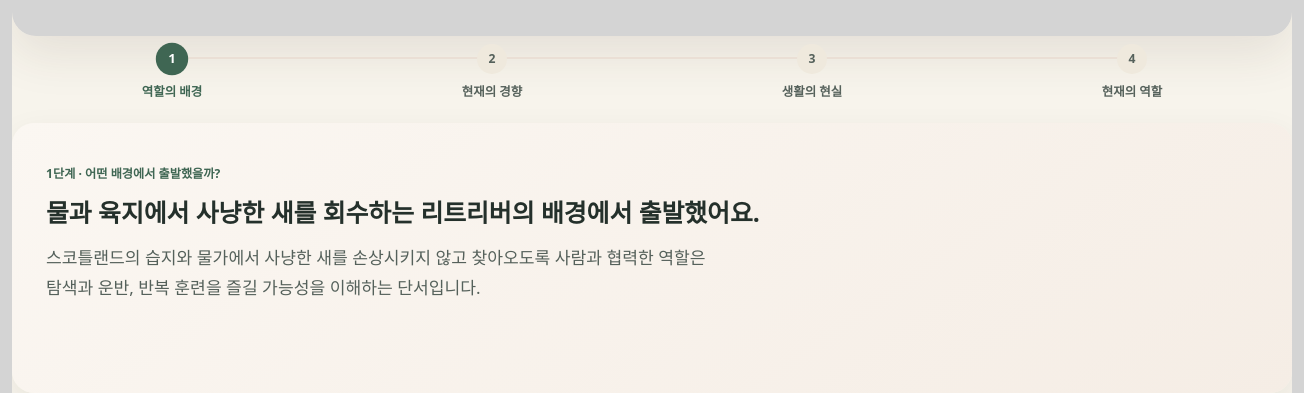
it: standard breed detail interactions › integrates an evidence-backed present-day job as Golden Retriever step four
This screenshot has width=1304, height=393.
(page scrolled)
Click the tab "4 현재의 역할" at (1132, 74), box [972,36,1292,111]
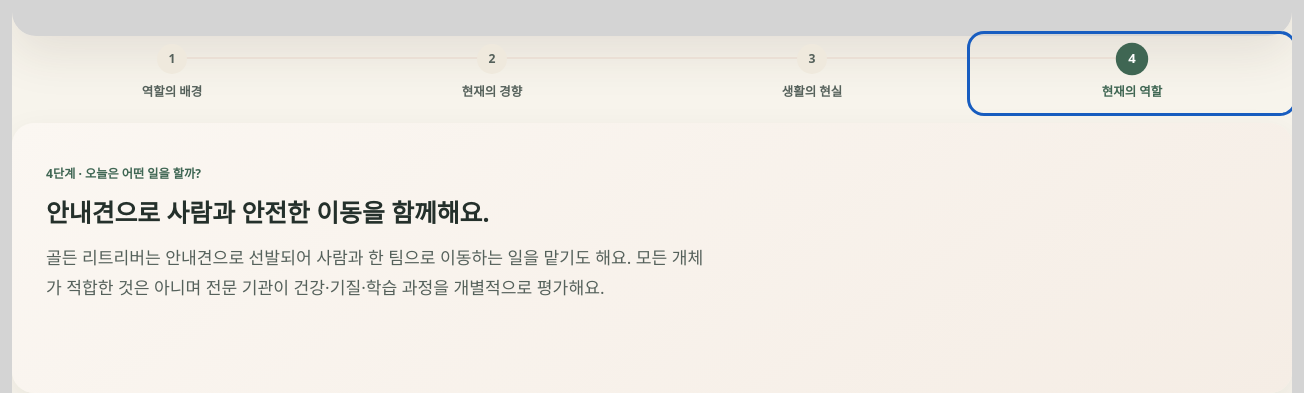
Expected: the panel shows "안내견으로 사람과 안전한 이동", [46,195,490,229]
